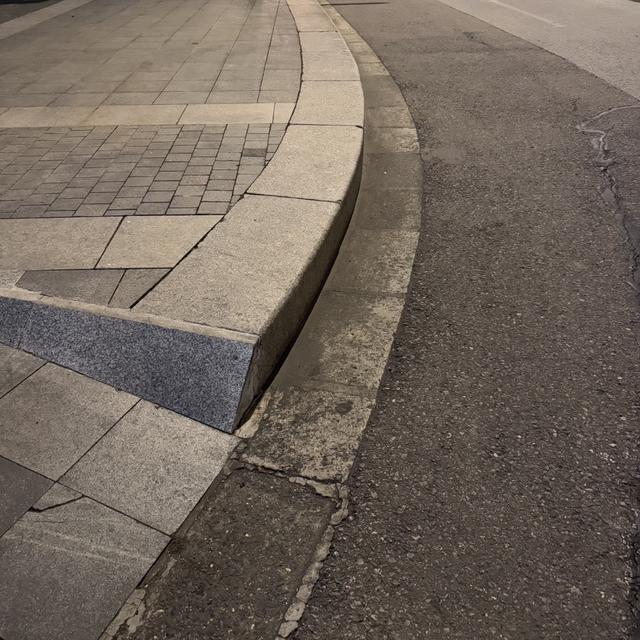curb: (136, 0, 363, 428)
